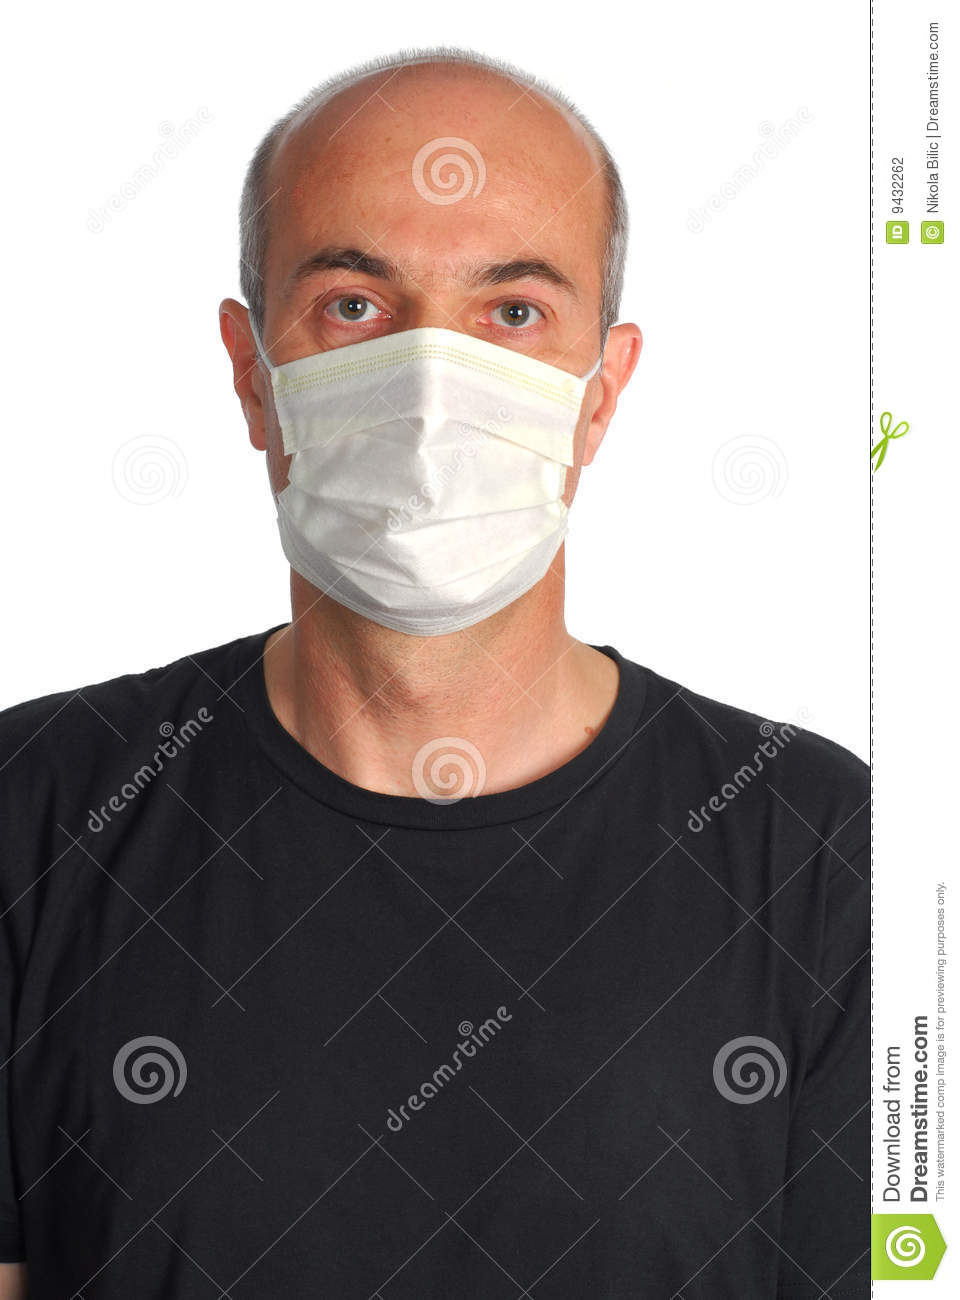mask: (270, 328, 581, 641)
